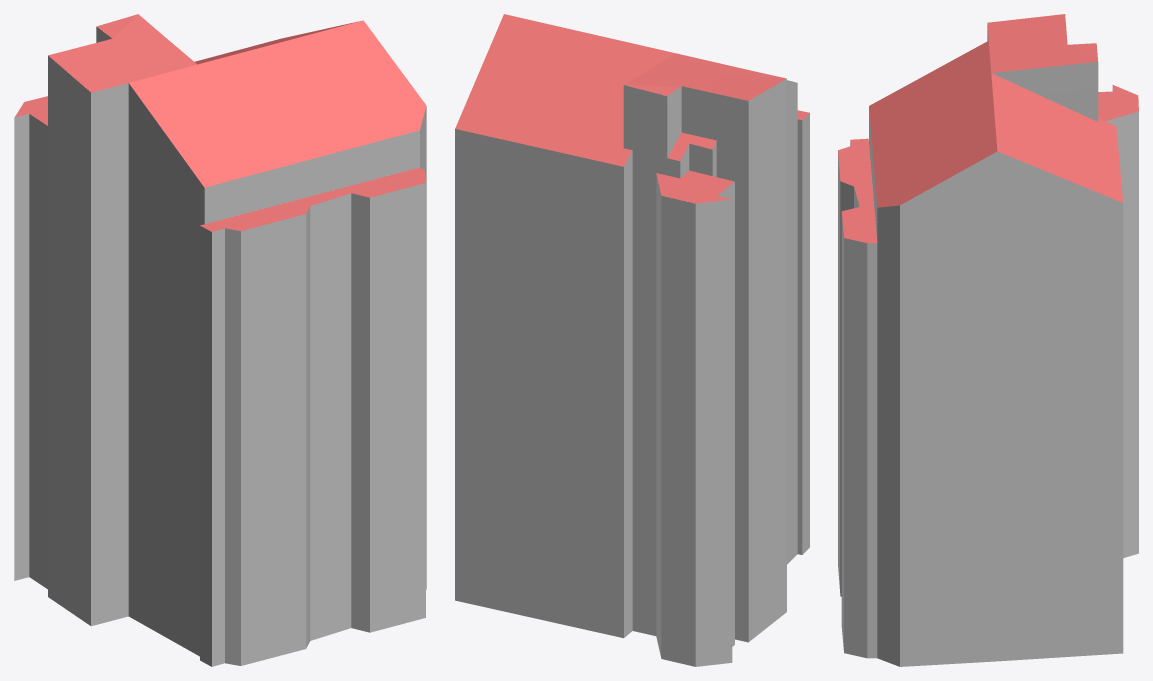
The picture shows the model from 3 angles, left to right: view 1: azimuth 30°, elevation 25°; view 2: azimuth 150°, elevation 25°; view 3: azimuth 270°, elevation 25°; orthographic projection. The views are drawn at different scales.
Visible parts, largest first — view 1: Z_UP; view 2: Z_UP; view 3: Z_UP.
Boxes of the visible parts, left/top/right/bottom form: Z_UP: left=14, top=14, right=426, bottom=666; Z_UP: left=455, top=14, right=809, bottom=666; Z_UP: left=838, top=14, right=1138, bottom=666.
Bounding box in the file's own units: 15.57 × 26.92 × 14.14.
